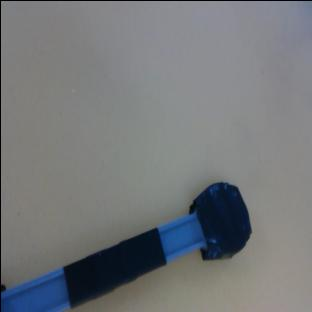part_3_bad: (0, 175, 260, 312)
